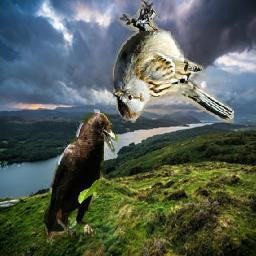Crow: (44, 110, 118, 243)
Sparrow: (114, 1, 235, 124)
